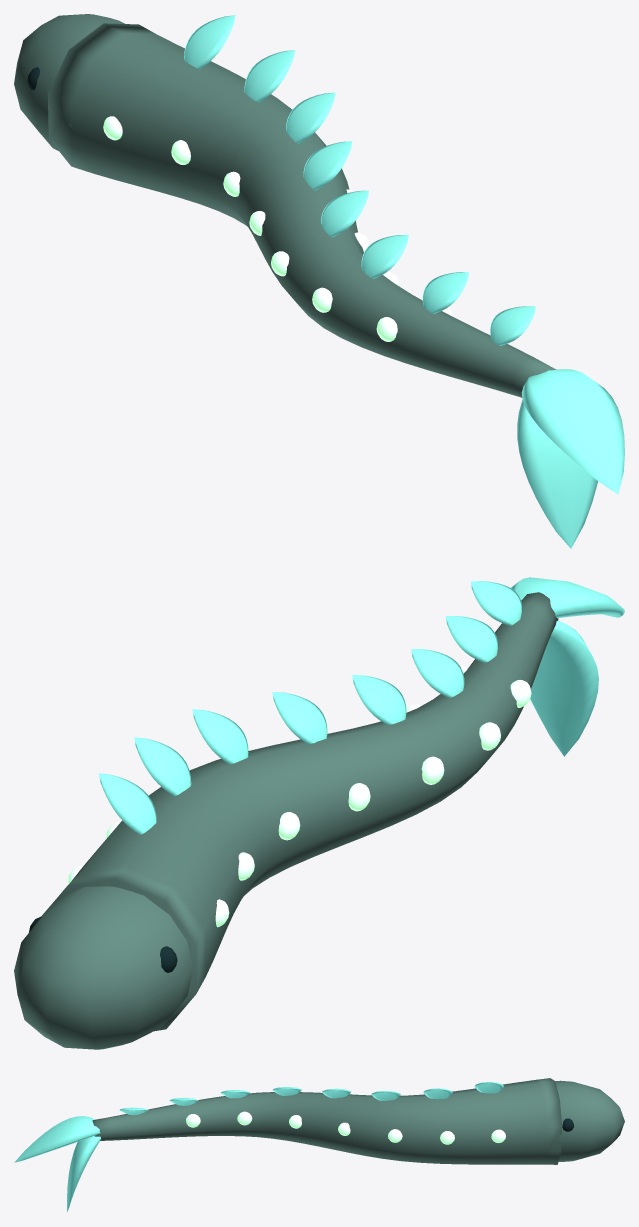
Rendered from lantern-eel.glb.
3 views of the same model, one above another, from view 1: azimuth 30°, elevation 25°; view 2: azimuth 150°, elevation 25°; view 3: azimuth 270°, elevation 25° (orthographic). The views are drawn at different scales.
Parts seen in each view (by area): view 1: body, tail, dorsal-fin, head, lantern-nodes; view 2: body, head, dorsal-fin, tail, lantern-nodes; view 3: body, head, tail, dorsal-fin, lantern-nodes.
Part boxes in pixels (x1,y1,x2,y2): body: (47, 23, 556, 397); tail: (517, 369, 624, 548); dorsal-fin: (184, 15, 535, 345); head: (14, 14, 124, 150); lantern-nodes: (103, 116, 452, 341); body: (42, 592, 558, 1031); head: (14, 886, 205, 1049); dorsal-fin: (99, 581, 521, 834); tail: (511, 577, 624, 756); lantern-nodes: (68, 665, 531, 927); body: (92, 1078, 562, 1164); head: (555, 1080, 624, 1161); tail: (14, 1116, 100, 1211); dorsal-fin: (119, 1082, 503, 1115); lantern-nodes: (186, 1111, 505, 1144).
Size of the model in its own units: 0.2453 by 0.3506 by 1.38.
